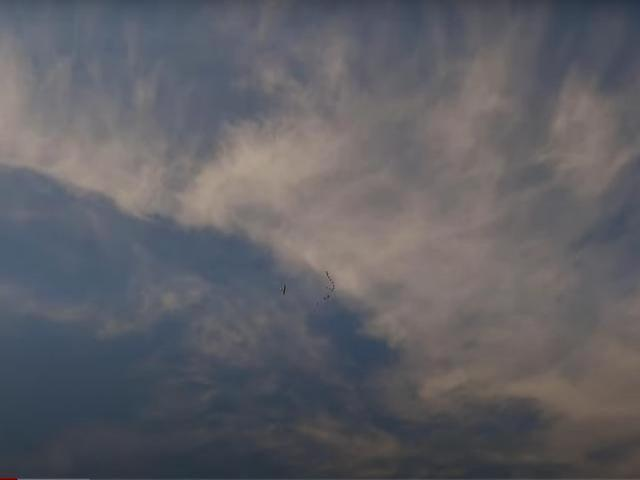iha: (281, 285, 286, 295)
